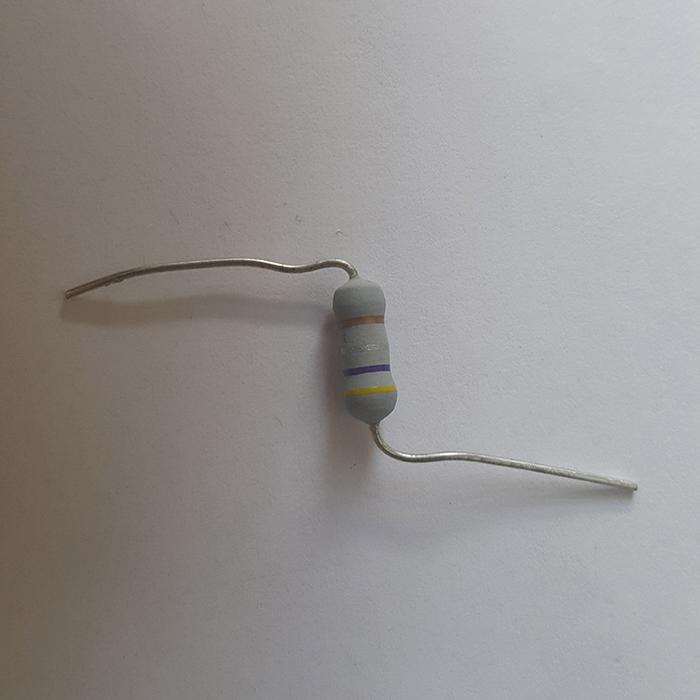resistor: (331, 274, 397, 424)
